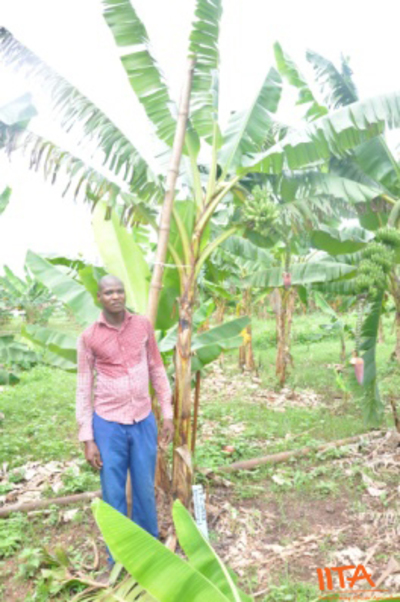bananaHand: (241, 182, 286, 237)
